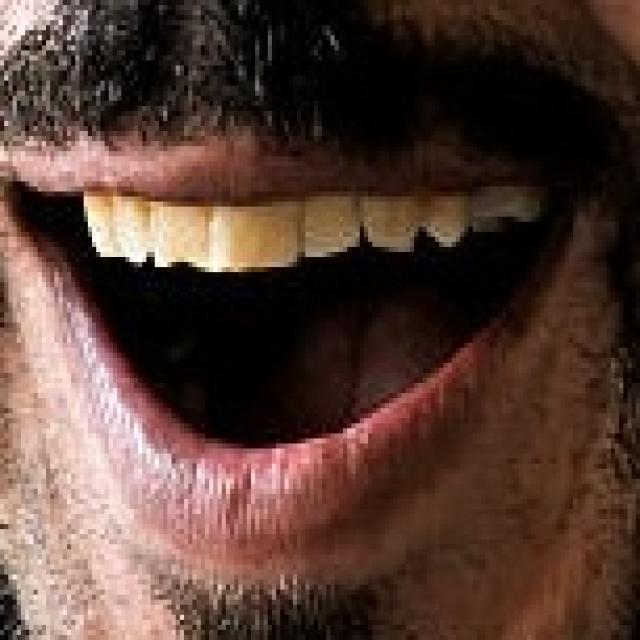open-mouth: (0, 135, 577, 559)
